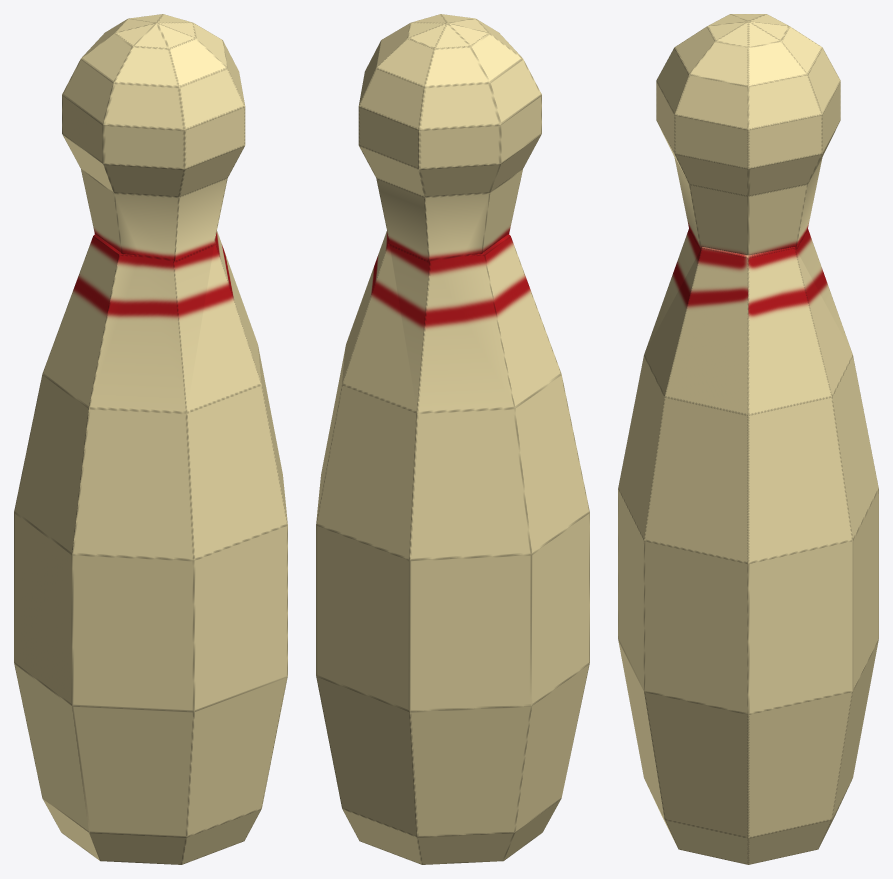
File: Pin.fbx
The picture shows the model from 3 angles, left to right: view 1: azimuth 30°, elevation 25°; view 2: azimuth 150°, elevation 25°; view 3: azimuth 270°, elevation 25°; orthographic projection.
Parts seen in each view (by area): view 1: pSphere4; view 2: pSphere4; view 3: pSphere4.
Boxes of the visible parts, <box> form: pSphere4: <box>14,14,287,864</box>; pSphere4: <box>316,14,589,864</box>; pSphere4: <box>618,14,878,864</box>.
Bounding box in the file's own units: 0.7372 × 2.37 × 0.6967.
Materials: 1 (1 with a texture image).
